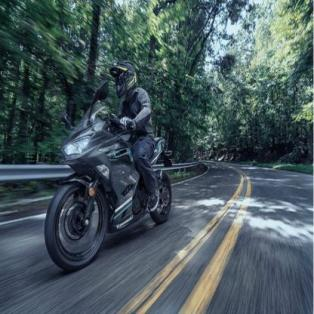Motocicleta: (40, 102, 186, 271)
